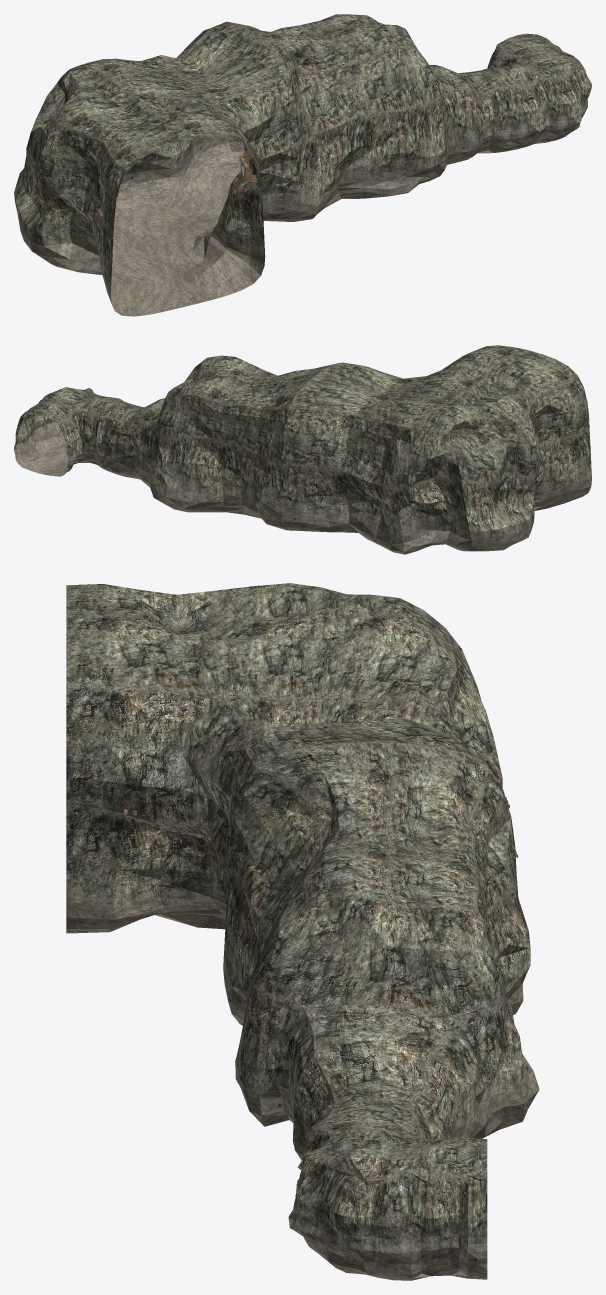
The model's file is poi_all_bunker_mad_bio_s01_r40_largecavehall3_mesh_r40.fbx.
3 views of the same model, one above another, from view 1: azimuth 30°, elevation 25°; view 2: azimuth 150°, elevation 25°; view 3: azimuth 270°, elevation 25° (orthographic). The views are drawn at different scales.
Visible parts, largest first — view 1: mesh_node; view 2: mesh_node; view 3: mesh_node.
Boxes of the visible parts, x1,y1,x2,y2 form: mesh_node: [14, 14, 591, 316]; mesh_node: [14, 345, 591, 554]; mesh_node: [66, 583, 539, 1280].
Size of the model in its own units: 57.79 by 16.83 by 24.73.
